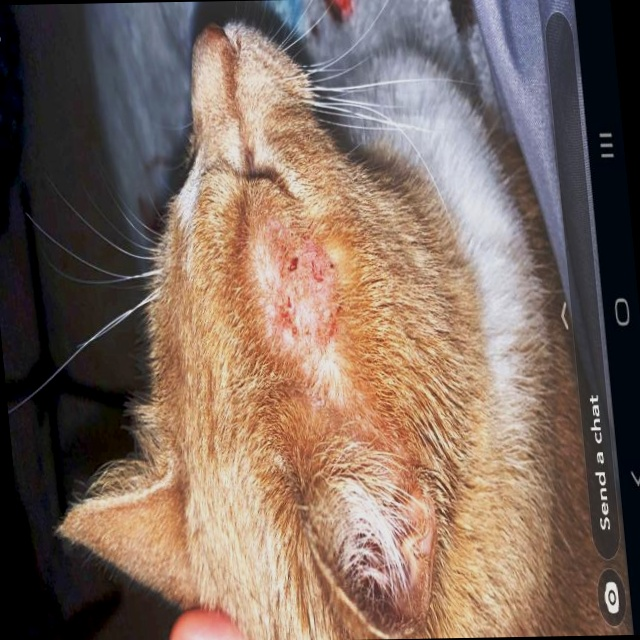ringworm: (264, 242, 347, 399)
